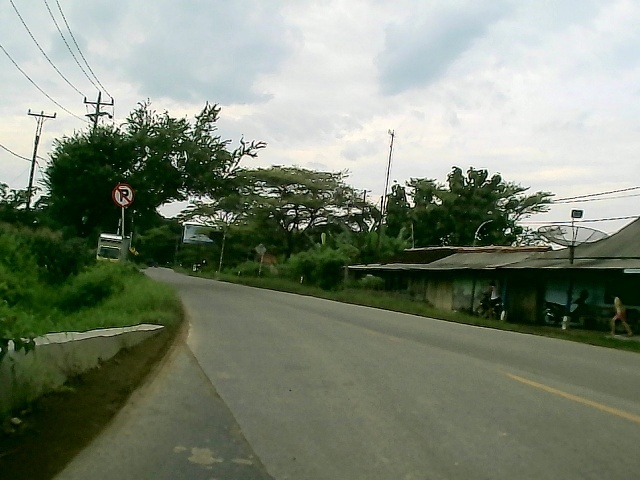Dilarang parkir: (110, 181, 135, 207)
